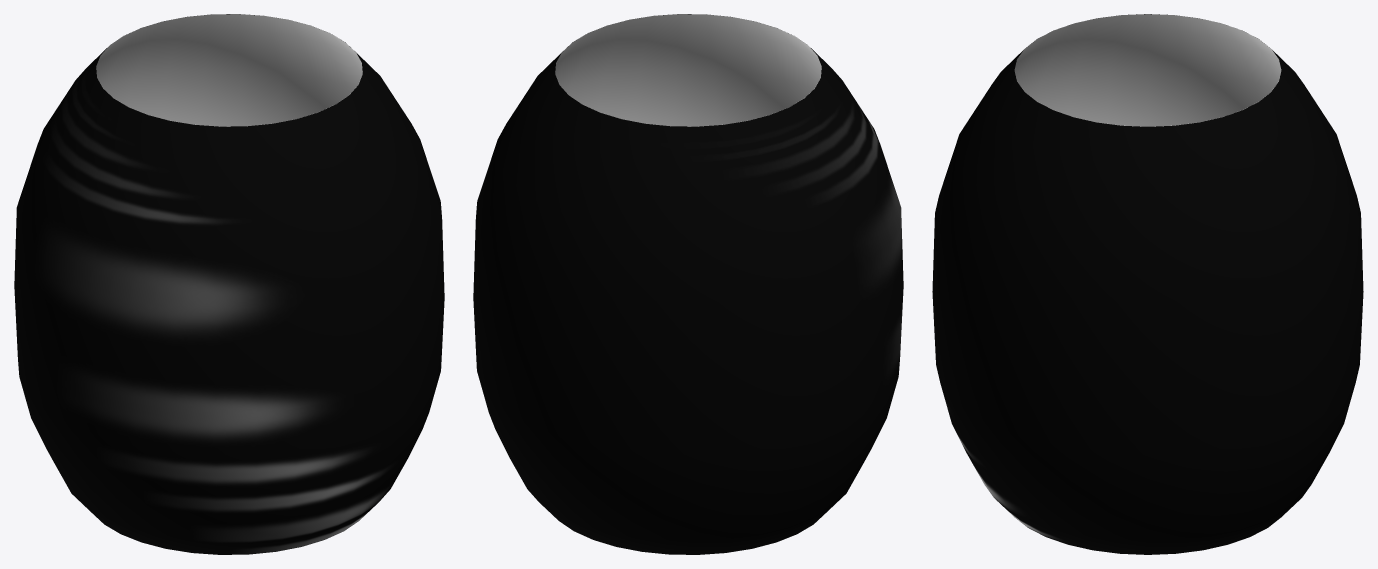
File: p_mesh_plasmadrill_laserbeam_diameter_pose1.fbx
3 renders of one model, left to right at view 1: azimuth 30°, elevation 25°; view 2: azimuth 150°, elevation 25°; view 3: azimuth 270°, elevation 25°, orthographic.
Parts seen in each view (by area): view 1: plasmadrill_diameter_pose1; view 2: plasmadrill_diameter_pose1; view 3: plasmadrill_diameter_pose1.
Part boxes in pixels (box(x1,y1,x2,y2)): plasmadrill_diameter_pose1: box(14, 14, 444, 554); plasmadrill_diameter_pose1: box(473, 14, 903, 554); plasmadrill_diameter_pose1: box(932, 14, 1363, 554).
Bounding box in the file's own units: 19.81 × 22.36 × 19.81.
